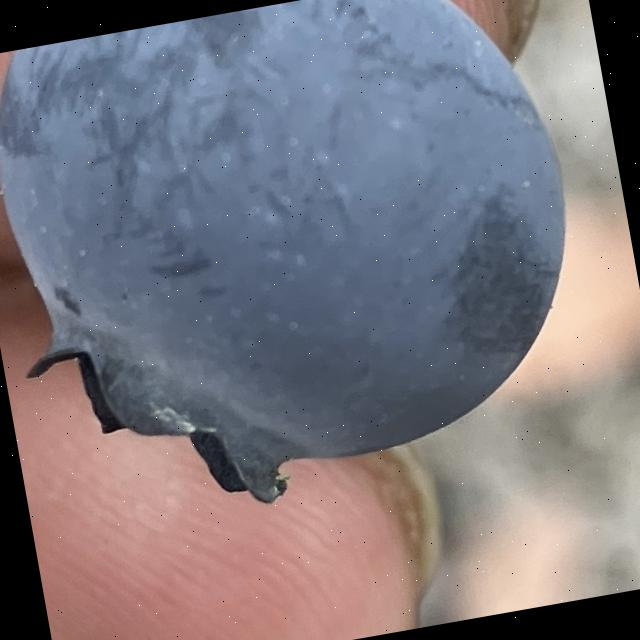Blueberries: (0, 0, 611, 540)
